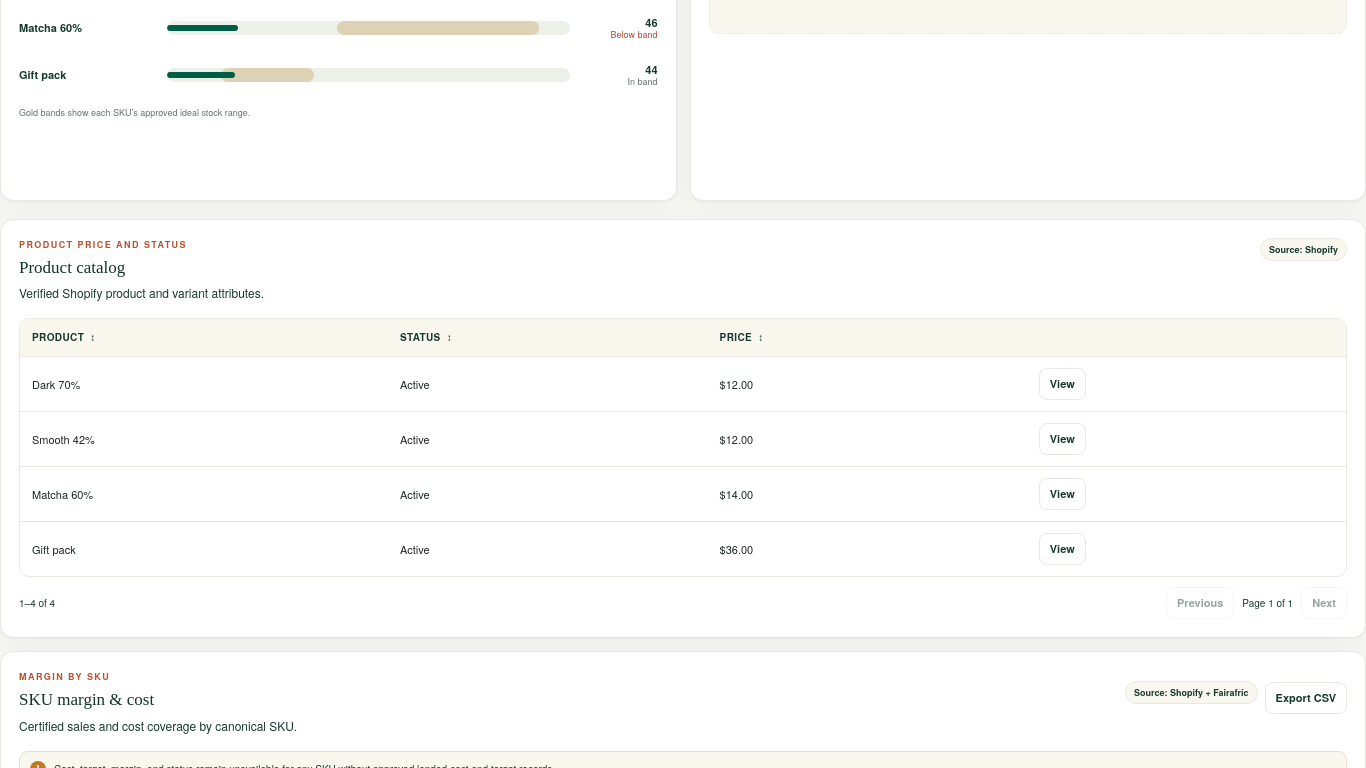
Test: F3 dashboard pages › matches the HTML Product Intelligence composition and table presentation
The width and height of the screenshot is (1366, 768).
(page scrolled)
Check: the table named "Product catalog" is shown, box [20, 319, 1346, 576]
Check: the number of buttons "Export CSV" is 1, box [1265, 682, 1347, 714]
Click the button with aria-label "View details for": (1062, 384) [1039, 368, 1086, 400]
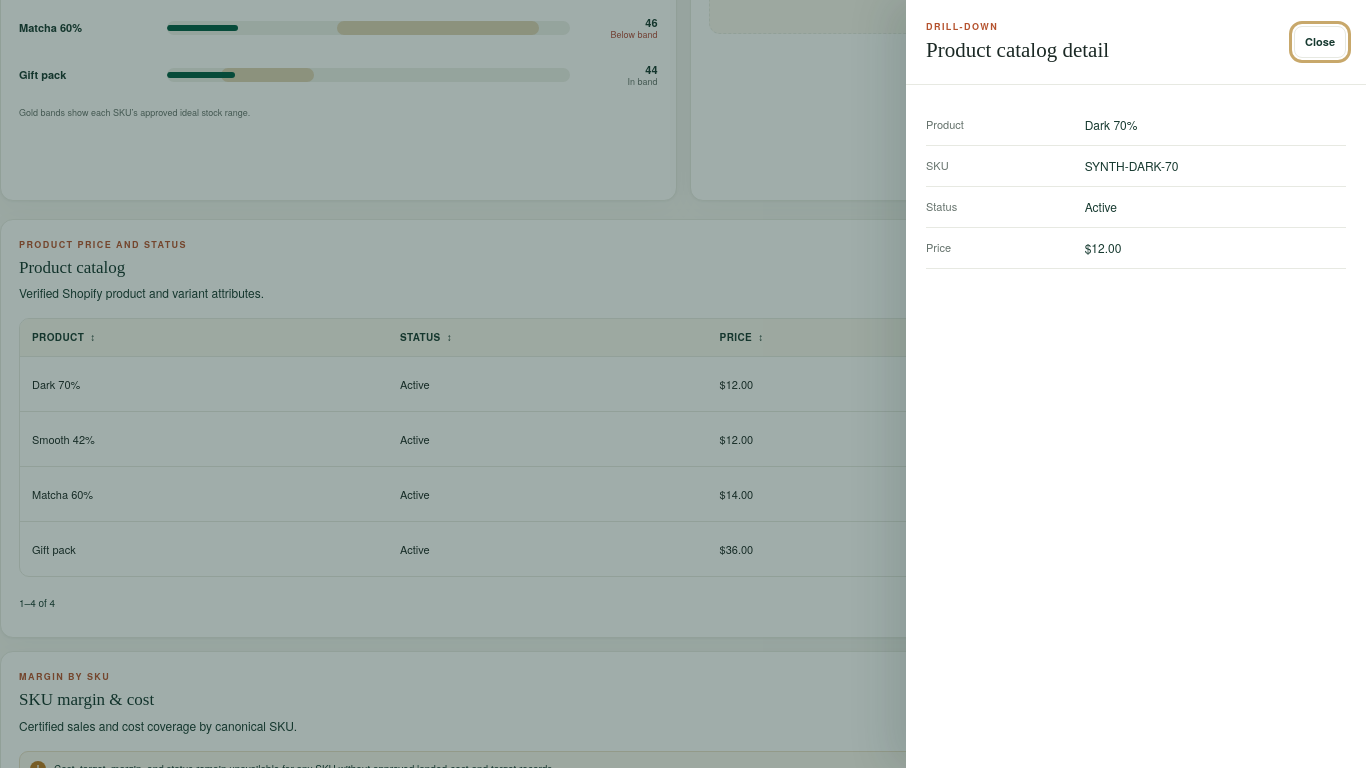
Check: the dialog "Product catalog detail" is shown, box [906, 0, 1365, 767]
